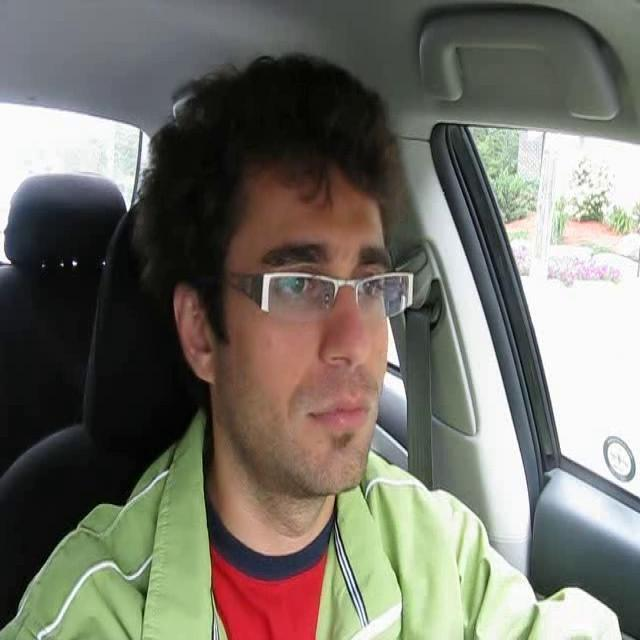open: (252, 230, 336, 325), (352, 235, 396, 317)
